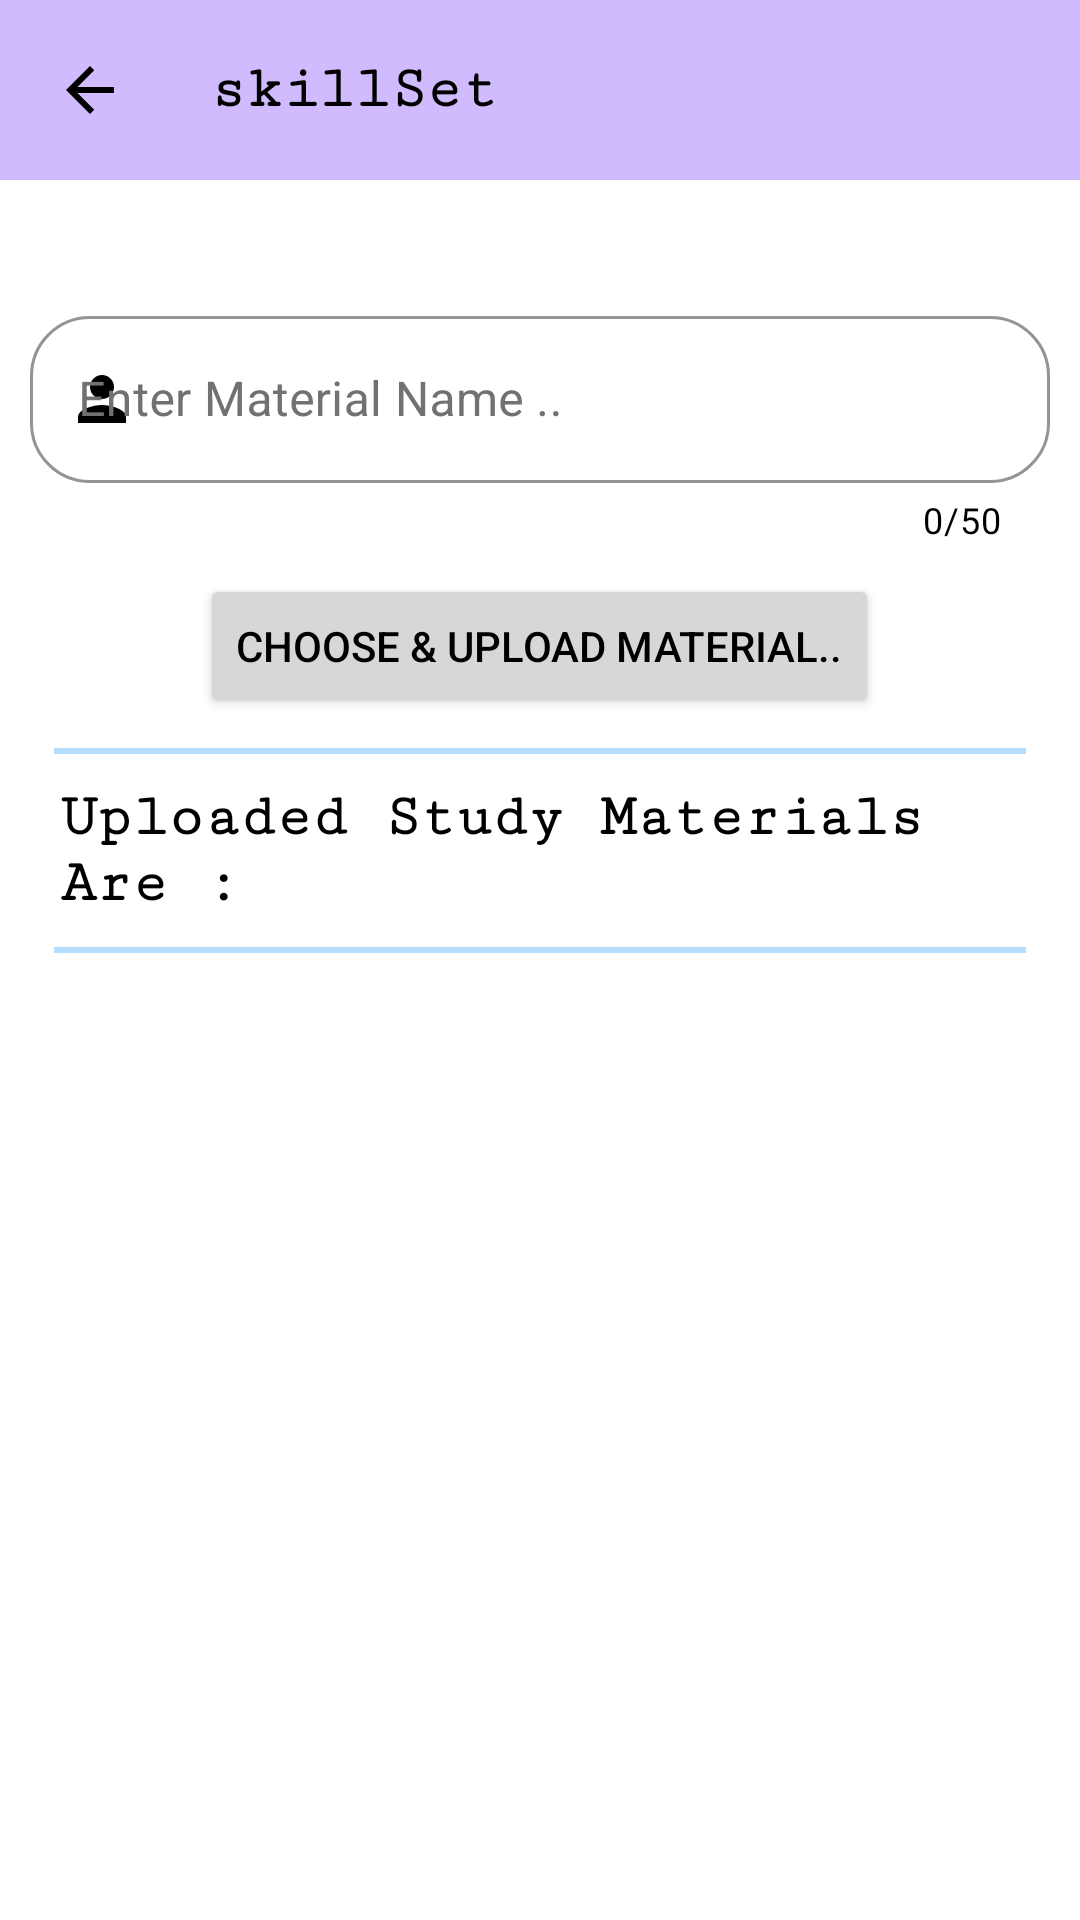

Icon bounding boxes for this 1080×1920 phone screenshot, format (x1, y1, x2, y2):
file back: (66, 66, 114, 114)
